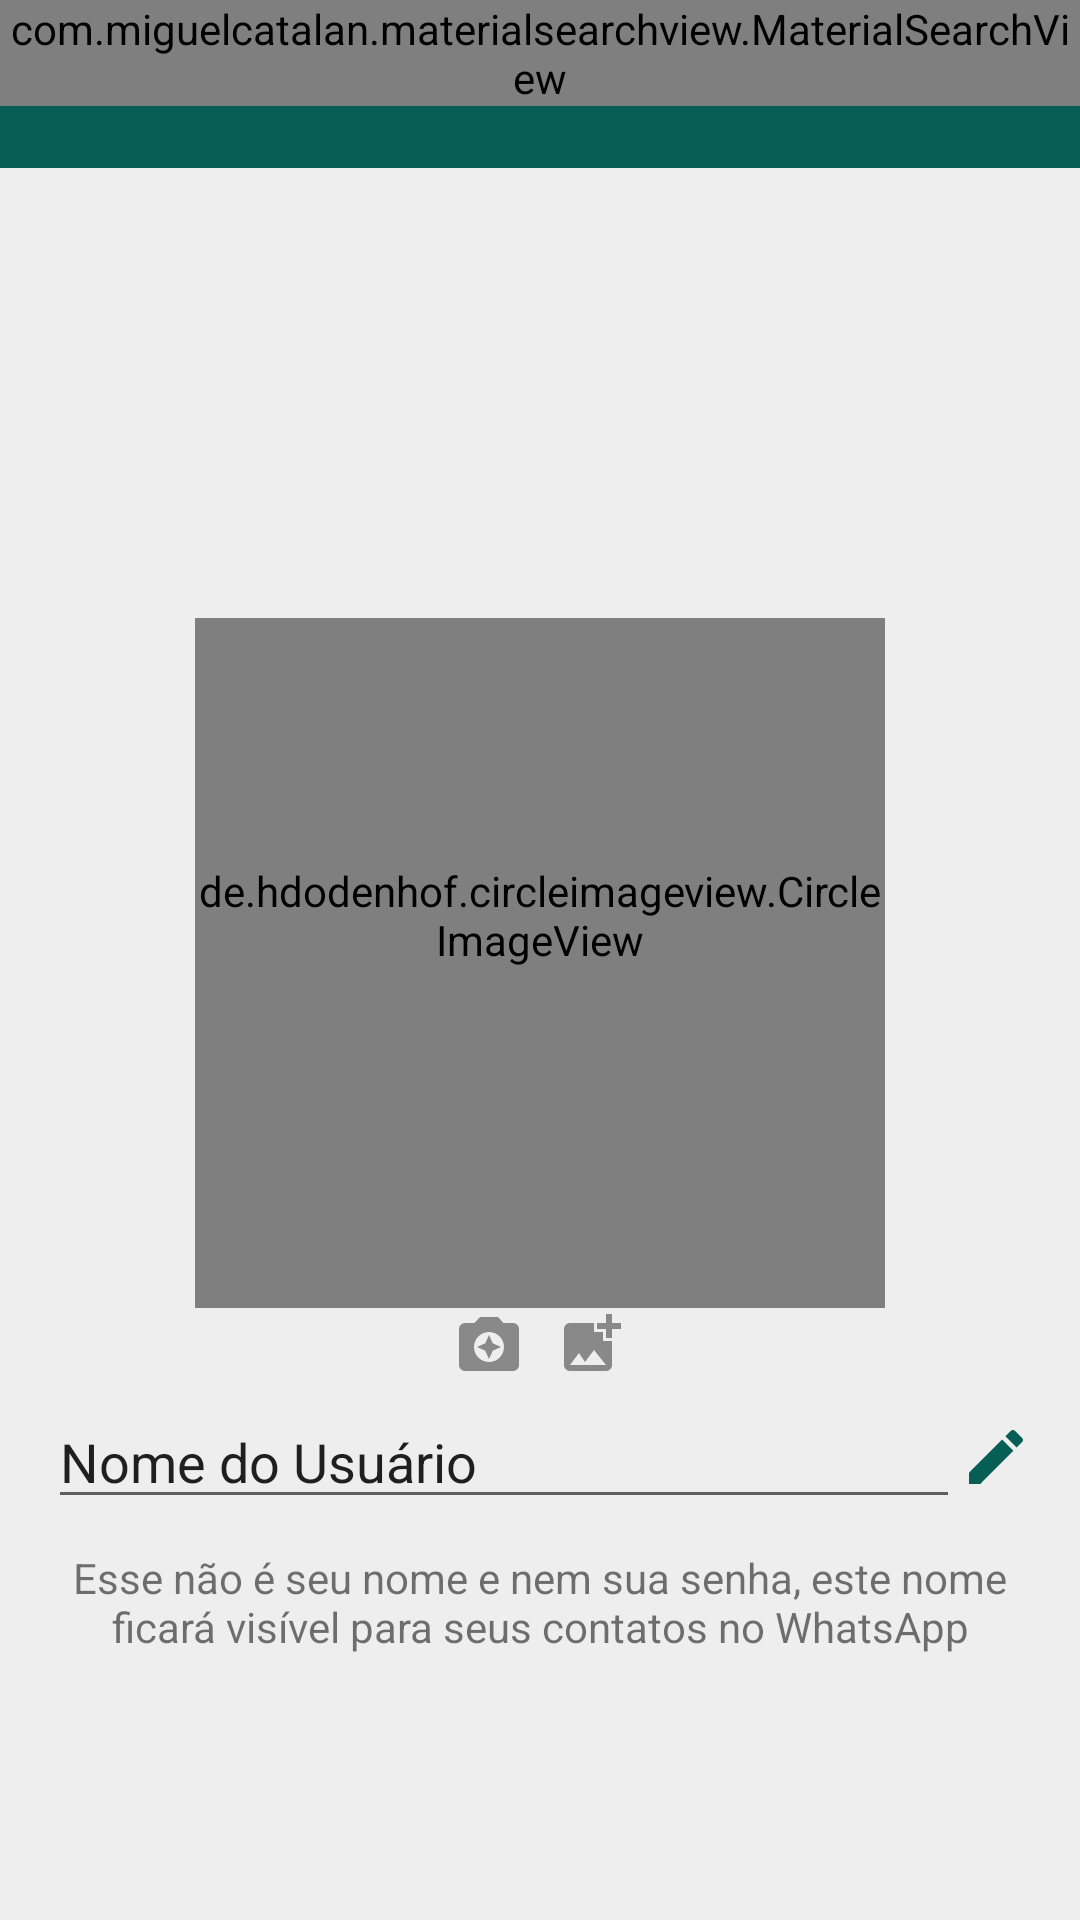

Point at icon controls on the screen. Image size 1080 × 1920, points as point (x, y).
config edit: point (996, 1457)
configuracao camera: point (489, 1344)
configuracao photo: point (592, 1342)
